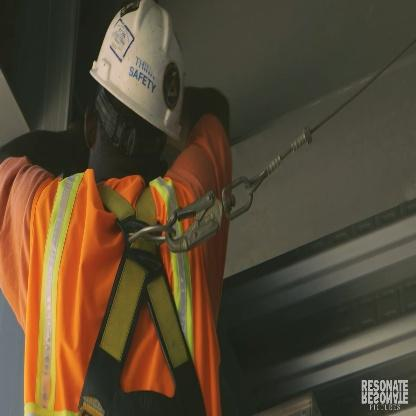helmet: (71, 0, 198, 193)
